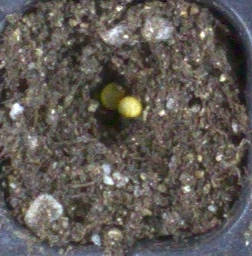chilli seed: (101, 82, 118, 110), (119, 96, 141, 117)
